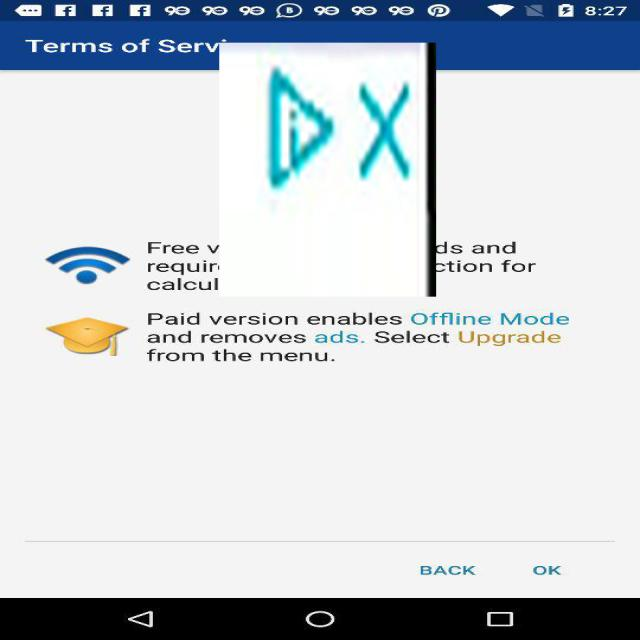sneaking: (219, 42, 436, 296)
